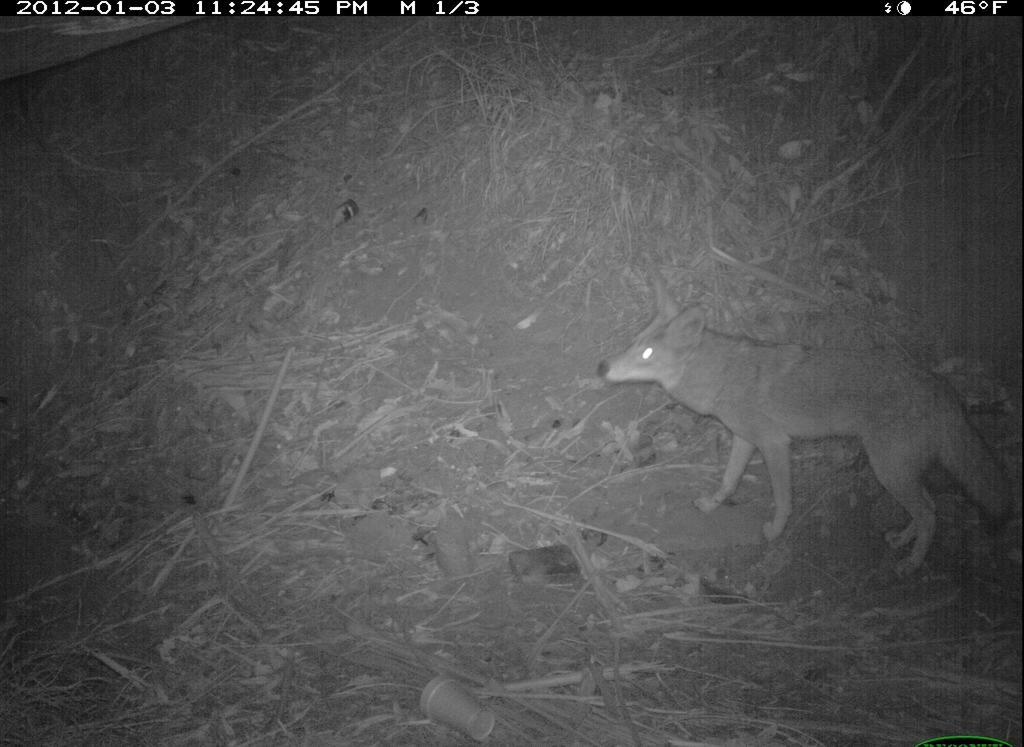coyote: (578, 272, 1016, 575)
